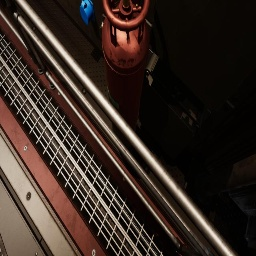NitrogenTank ,: (102, 0, 150, 149)
